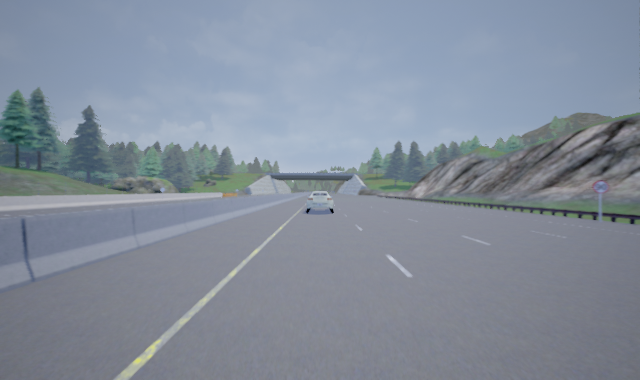vehicle: (305, 191, 334, 213)
